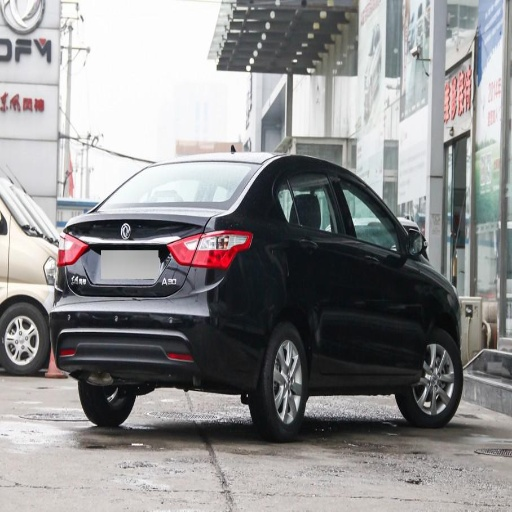back_bumper: (43, 267, 268, 387)
back_right_door: (285, 166, 363, 351)
tailgate: (67, 206, 205, 296)
